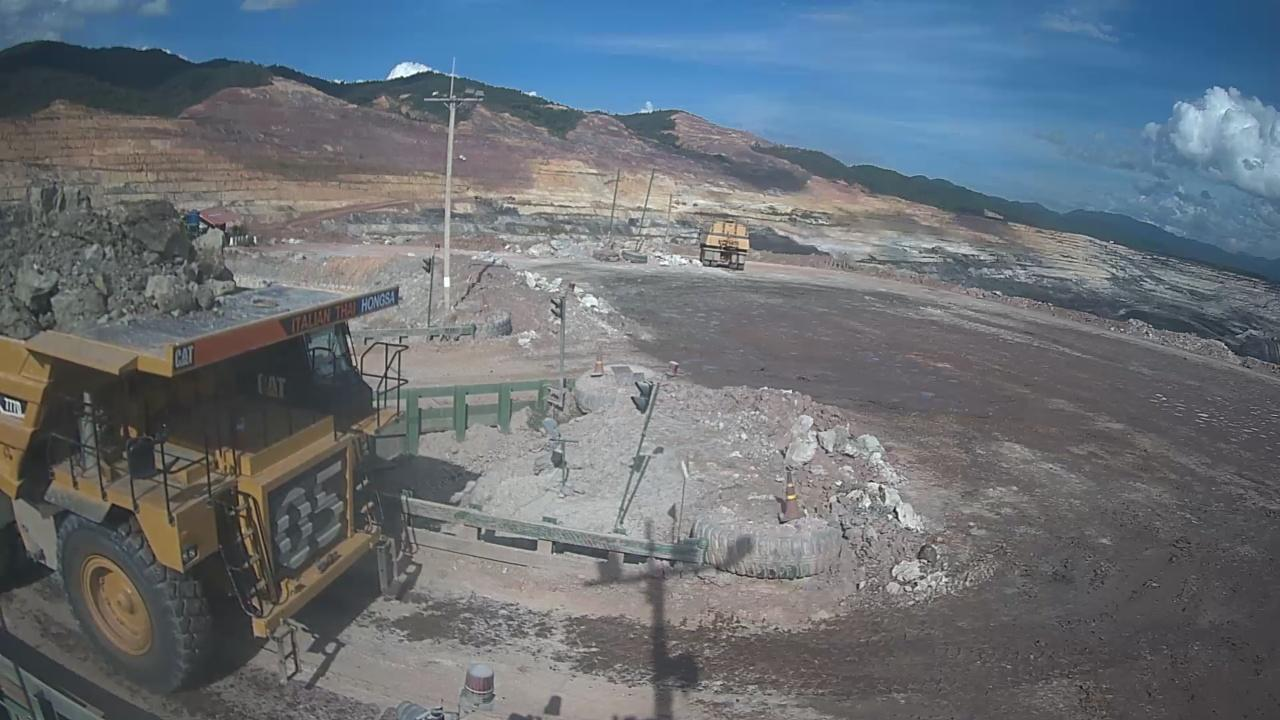front_number: (266, 456, 352, 568)
full_load: (6, 182, 250, 336)
mining_truck: (0, 157, 438, 711)
truck_size: (3, 387, 29, 422)
